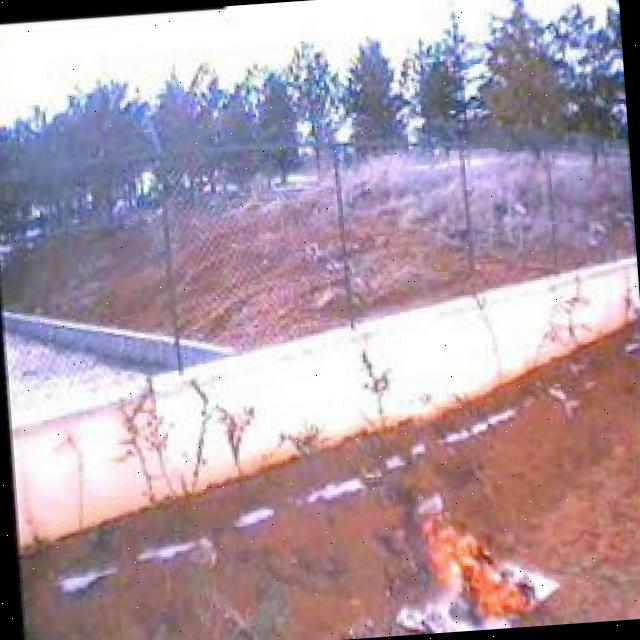fire: (406, 484, 554, 629)
